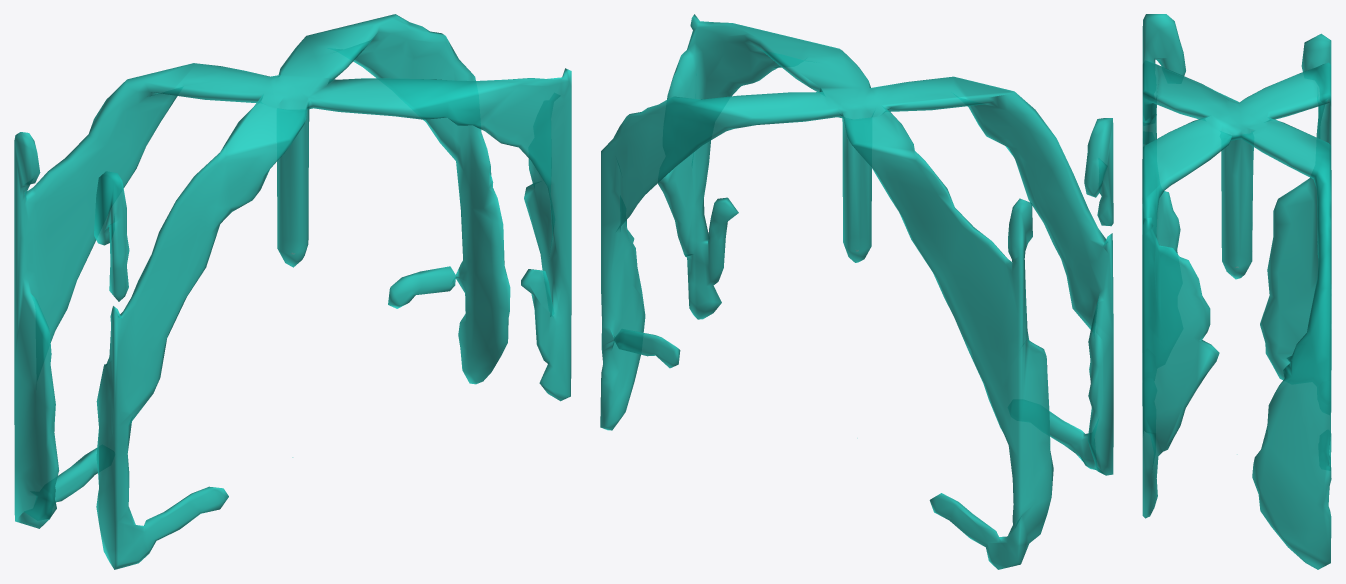
3 views of the same model, side by side, from view 1: azimuth 30°, elevation 25°; view 2: azimuth 150°, elevation 25°; view 3: azimuth 270°, elevation 25° (orthographic). The views are drawn at different scales.
Parts seen in each view (by area): view 1: Liquid_Domain; view 2: Liquid_Domain; view 3: Liquid_Domain.
Boxes of the visible parts, left/top/right/bottom form: Liquid_Domain: left=14, top=14, right=571, bottom=569; Liquid_Domain: left=600, top=14, right=1113, bottom=569; Liquid_Domain: left=1142, top=14, right=1331, bottom=569.
Bounding box in the file's own units: 1965 × 1751 × 765.
